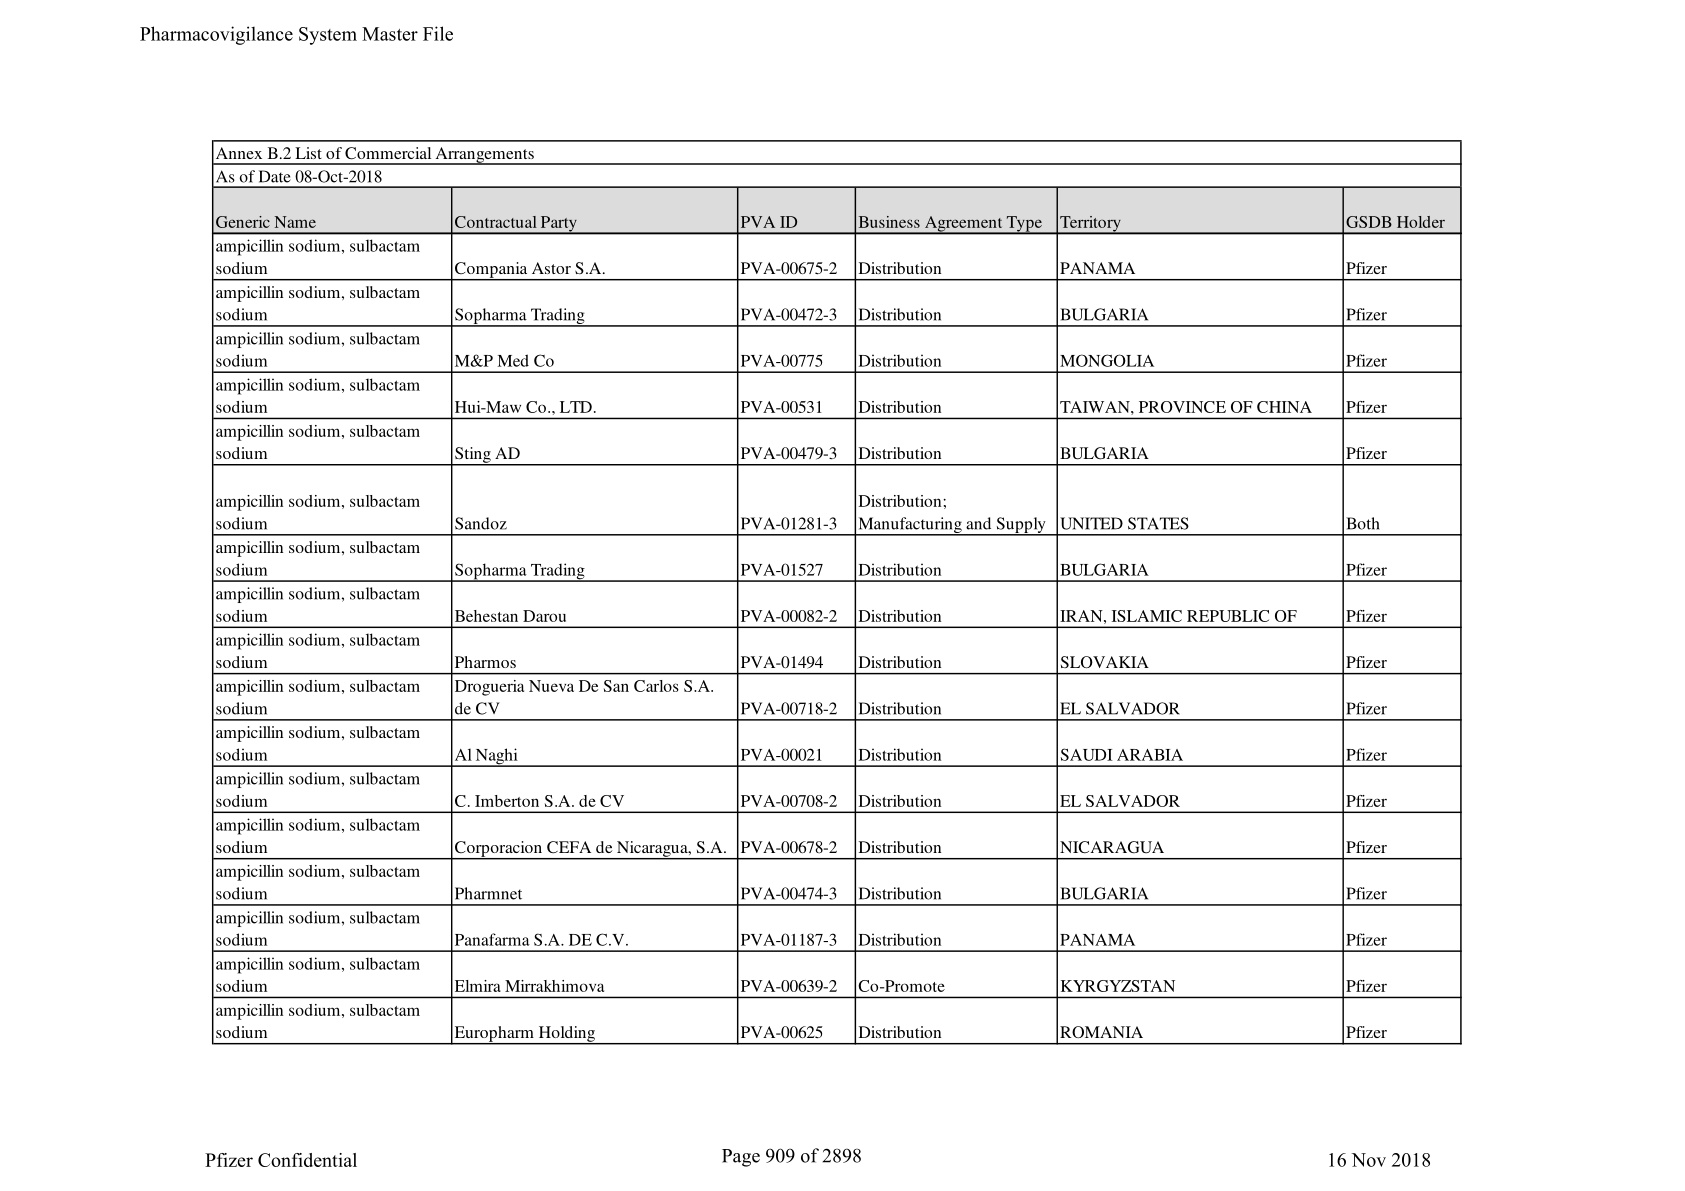merged_cells: (211, 138, 1463, 1047)
